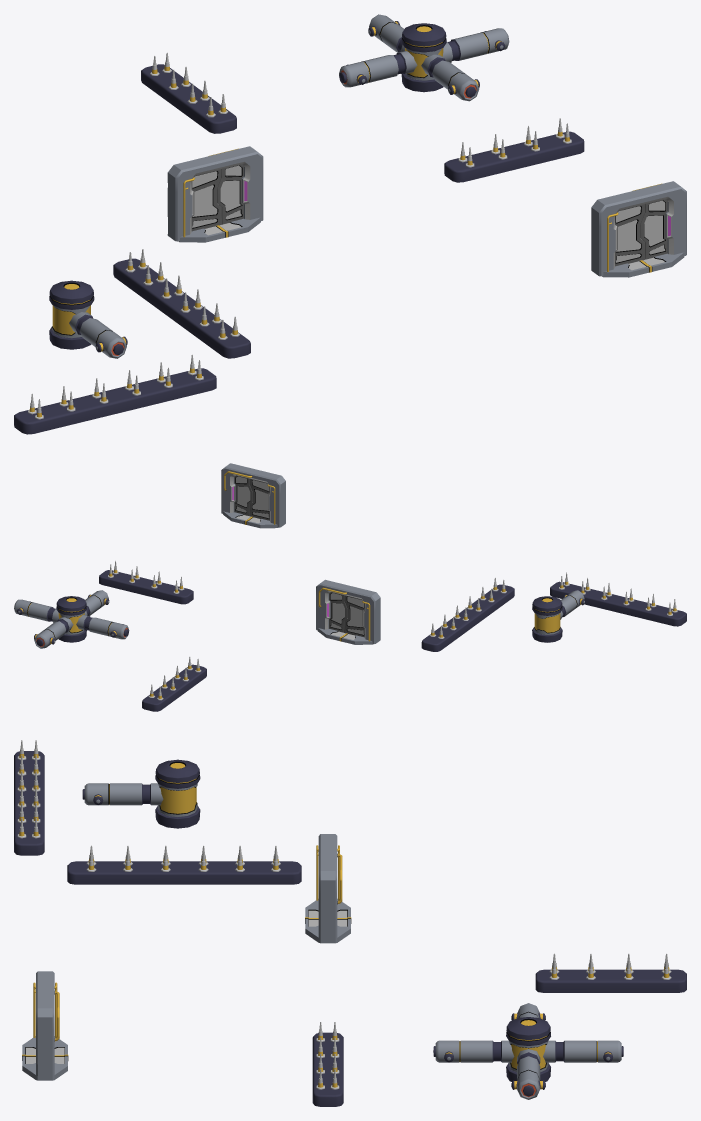
3 renders of one model, top to bottom at view 1: azimuth 30°, elevation 25°; view 2: azimuth 150°, elevation 25°; view 3: azimuth 270°, elevation 25°, orthographic. The views are drawn at different scales.
Parts seen in each view (by area): view 1: Base (×6), pCylinder14 (×5), pCylinder13 (×2), Right (×2), Left (×2), Base5 (×2); view 2: Base (×6), pCylinder14 (×4), pCylinder13 (×2), Right (×2), Left (×2), Base5 (×2); view 3: Base (×6), pCylinder14 (×4), pCylinder13 (×2), Base5 (×2).
Boxes of the visible parts, x1,y1,x2,y2 form: Base (×6): (14, 64, 686, 434); pCylinder14 (×5): (69, 14, 509, 358); pCylinder13 (×2): (49, 23, 446, 349); Right (×2): (191, 169, 645, 266); Left (×2): (217, 164, 667, 259); Base5 (×2): (178, 217, 684, 277); Base (×6): (99, 463, 686, 711); pCylinder14 (×4): (14, 590, 584, 648); pCylinder13 (×2): (56, 596, 562, 642); Right (×2): (249, 478, 364, 637); Left (×2): (234, 475, 347, 632); Base5 (×2): (223, 511, 373, 644); Base (×6): (14, 751, 686, 1106); pCylinder14 (×4): (82, 783, 623, 1099); pCylinder13 (×2): (155, 759, 550, 1081); Base5 (×2): (22, 898, 351, 1080).
Size of the model in its own units: 457 by 46.19 by 362.
